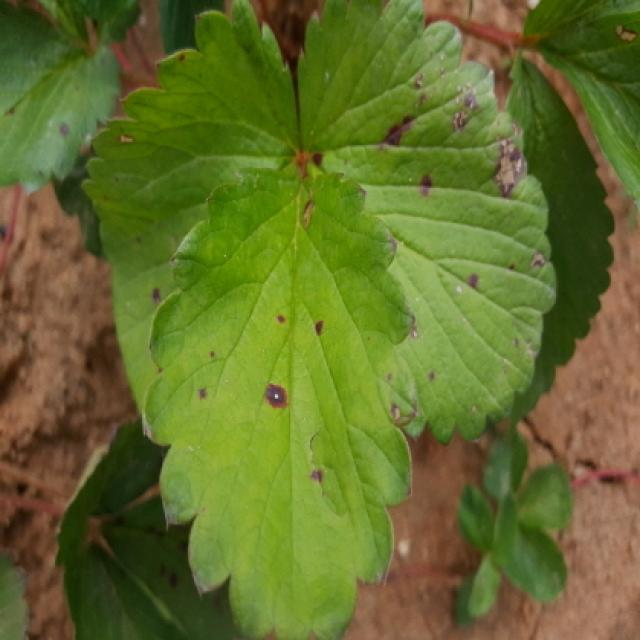Leaf Spot: (142, 160, 420, 638), (296, 0, 558, 447), (77, 0, 299, 431), (2, 3, 126, 196)
